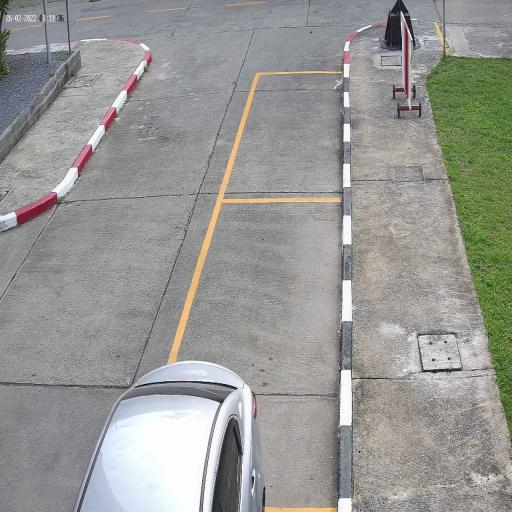car: (71, 360, 269, 512)
